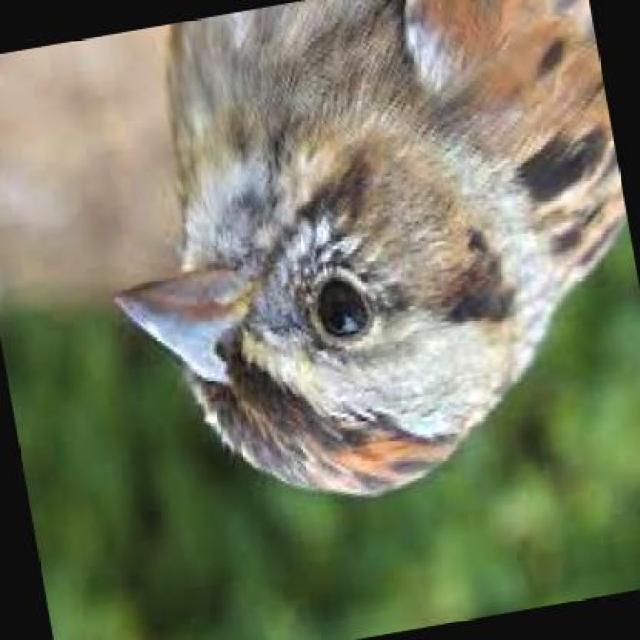Bird: (108, 12, 617, 503)
